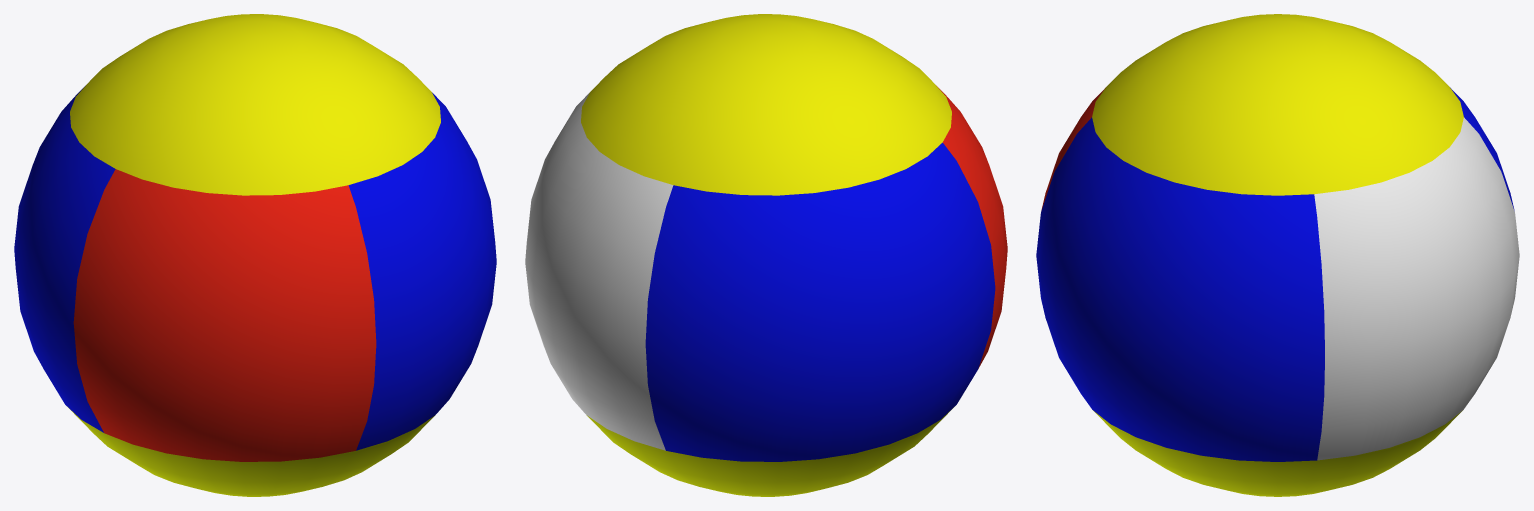
File: color ball.fbx
3 renders of one model, left to right at view 1: azimuth 30°, elevation 25°; view 2: azimuth 150°, elevation 25°; view 3: azimuth 270°, elevation 25°, orthographic.
Parts seen in each view (by area): view 1: Sphere; view 2: Sphere; view 3: Sphere.
Boxes of the visible parts, <box> form: Sphere: <box>14,14,496,496</box>; Sphere: <box>525,14,1007,496</box>; Sphere: <box>1036,14,1519,496</box>.
Bounding box in the file's own units: 200 × 200 × 200.
